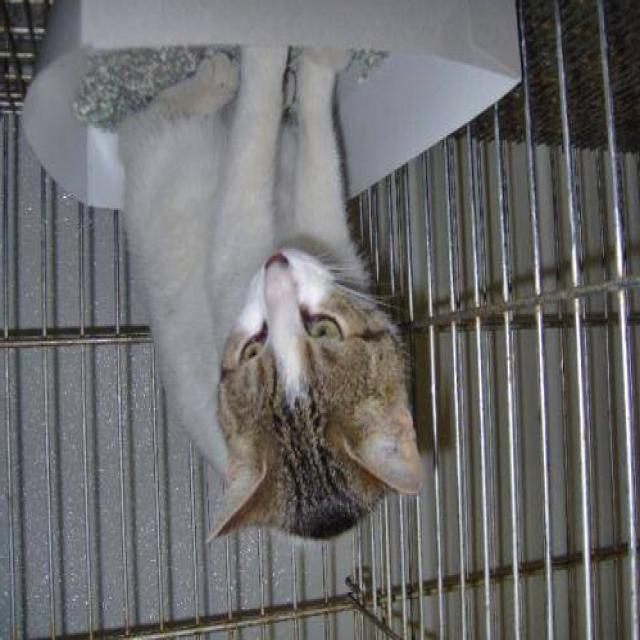Kucing: (39, 43, 423, 586)
